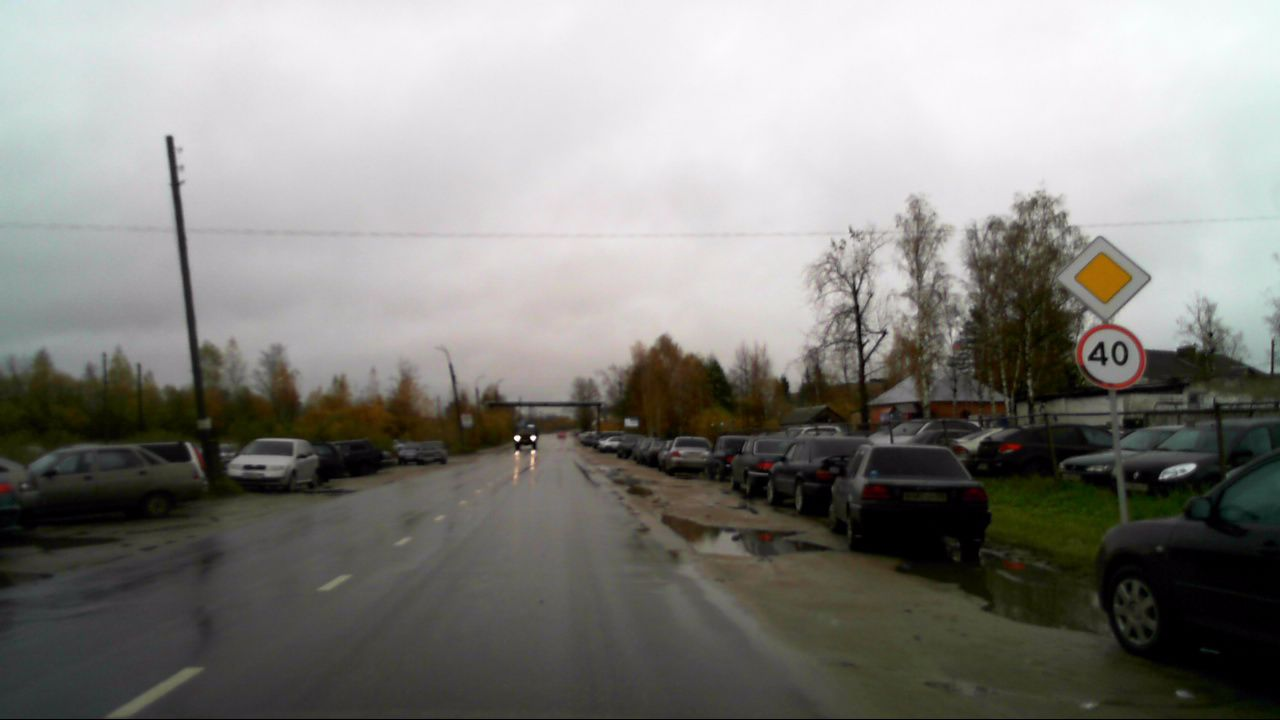speed_warning_40: (1076, 323, 1147, 389)
